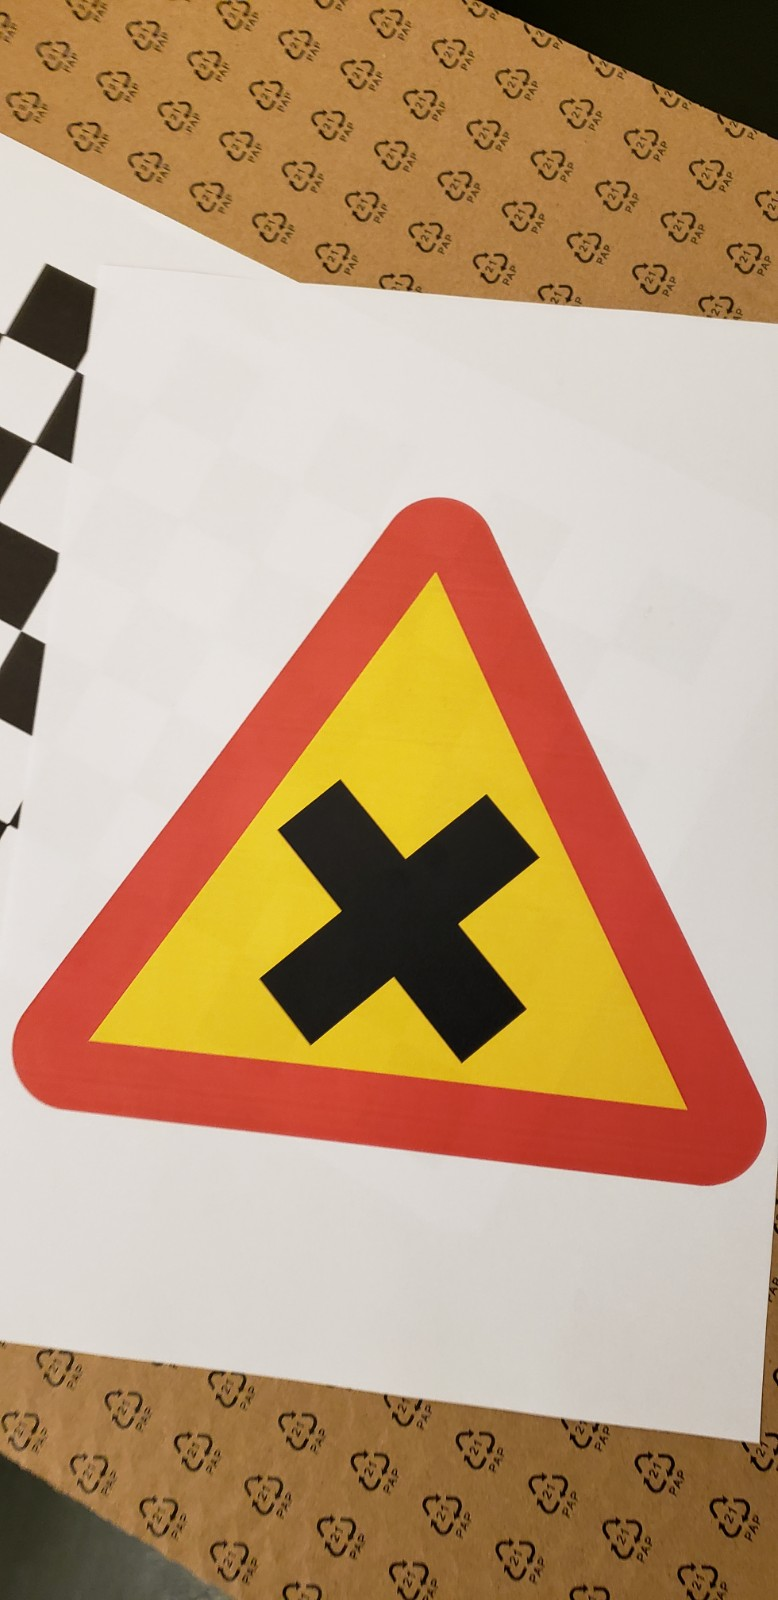junction: (83, 462, 778, 1236)
